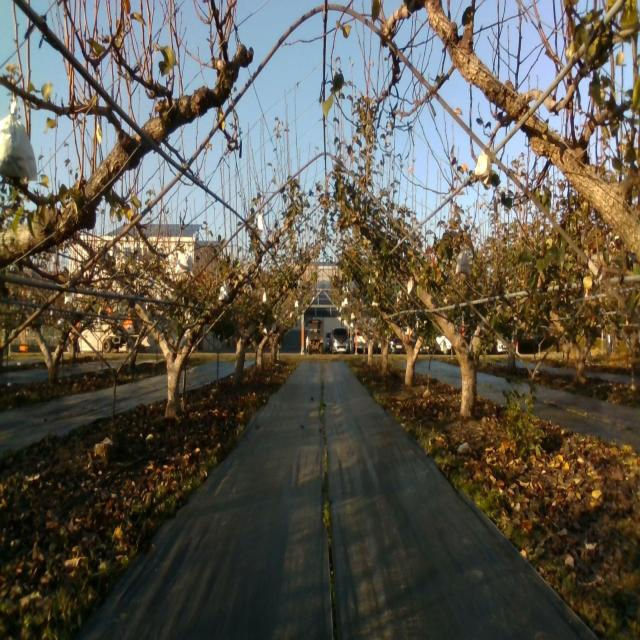pearbags: (0, 100, 37, 181), (474, 150, 491, 190), (174, 250, 195, 277), (455, 252, 470, 276), (218, 280, 229, 301)
